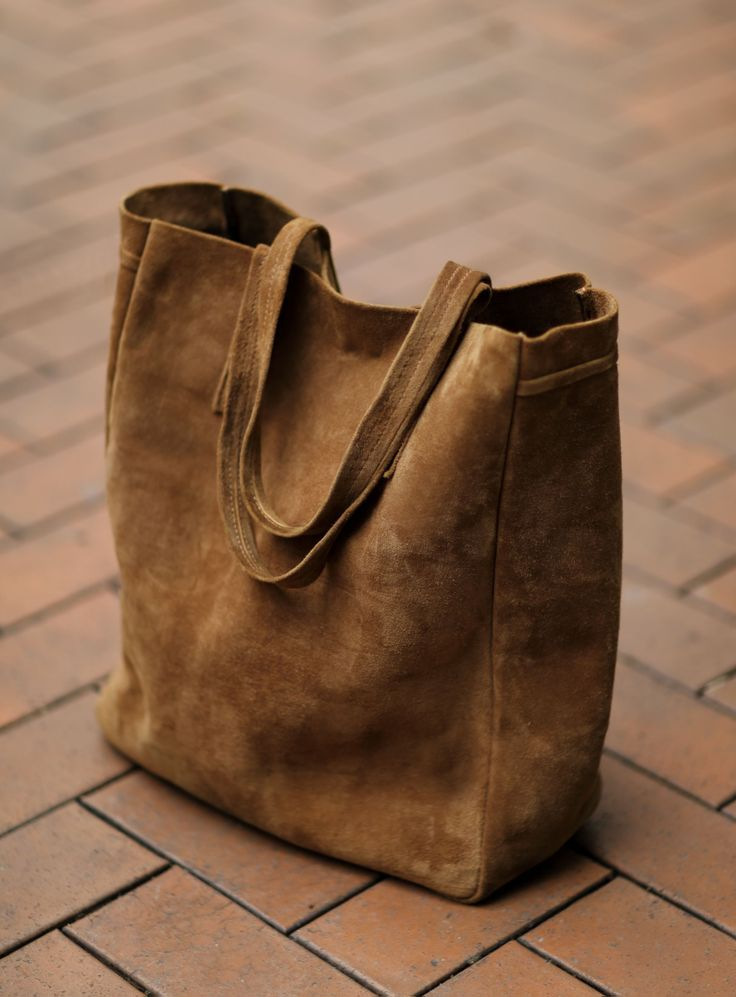cuero: (94, 180, 625, 907)
